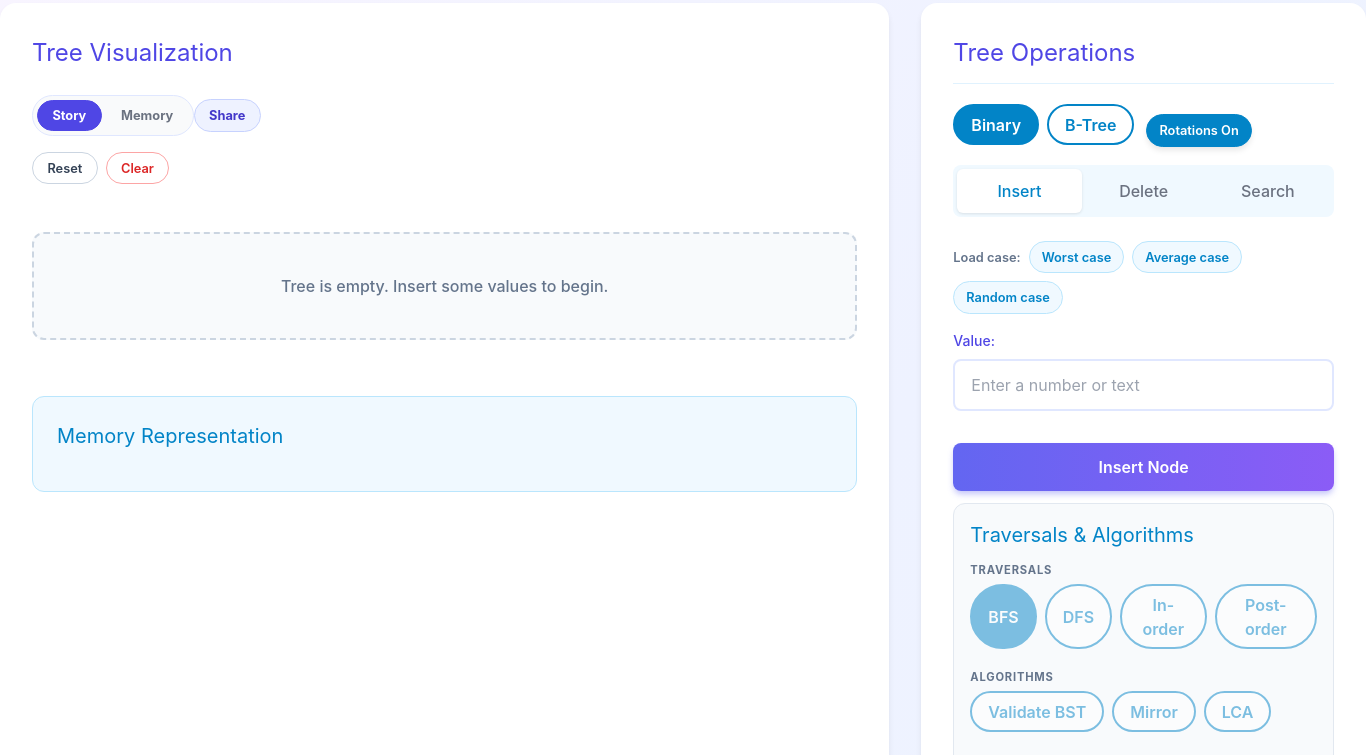
Scenario: dual pane pseudocode › insert run shows the treeInsert pseudocode with a live highlight
The width and height of the screenshot is (1366, 755).
(page scrolled)
Step 1. Type "20" into the field with placeholder "Enter a number or text" → (1144, 385), box [953,359,1334,411]
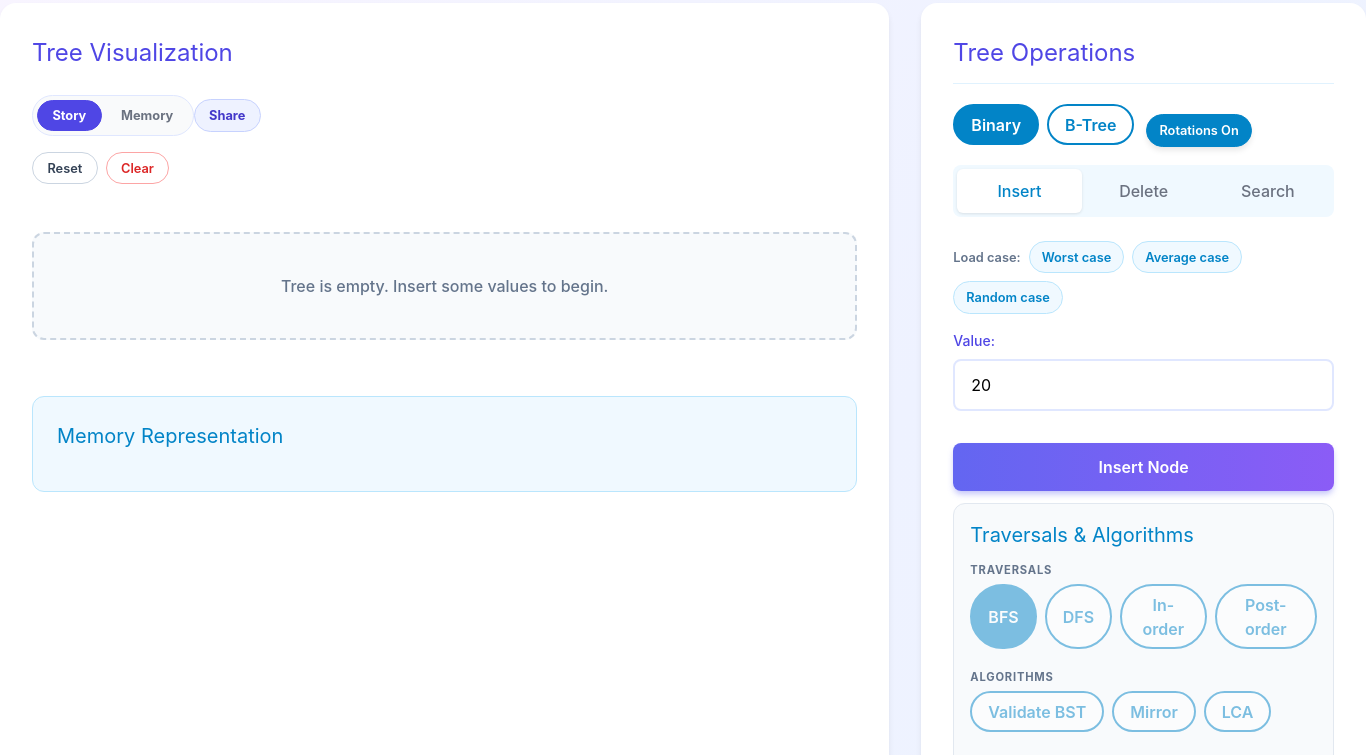
Step 2. Click the button "Insert Node" → (1144, 467), box [953,443,1334,491]
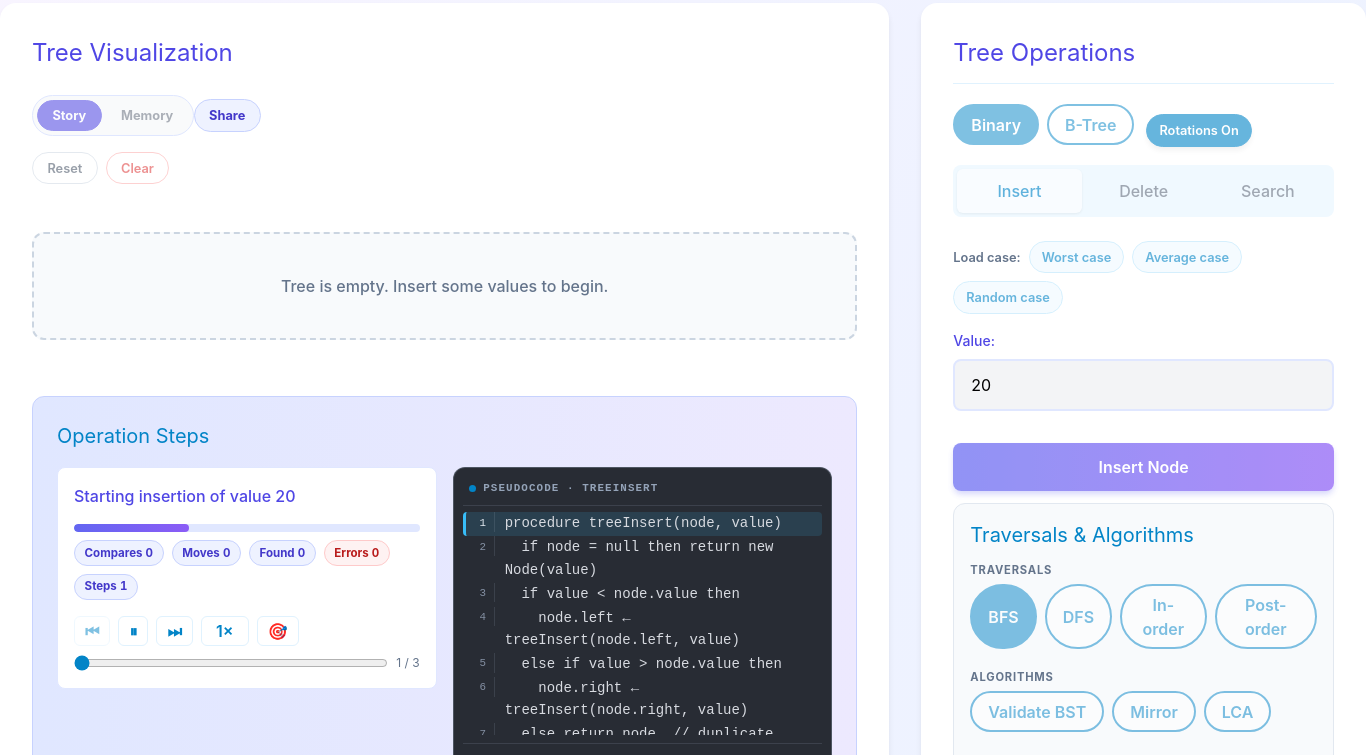
Expected: the element with class "code-line" that starts with "procedure treeInsert(node, value)" is shown, [463,512,822,536]
